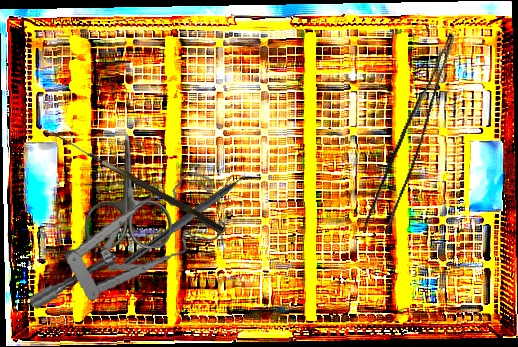Chopper: (122, 163, 264, 276)
Hook Surgical: (46, 131, 226, 234)
Iris Scissors: (84, 134, 172, 248)
Speculum: (15, 169, 234, 311)
Tissue Forceps: (363, 26, 456, 237)
